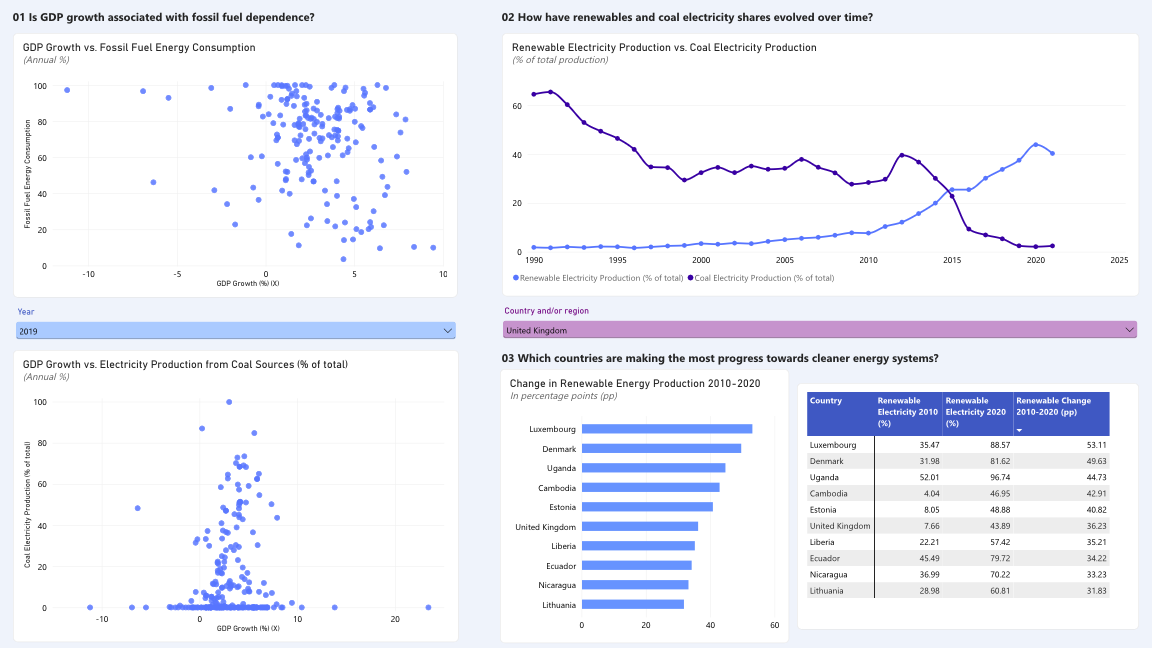

Layout of this report page (visuals, bound fields, positions):
{"tool":"powerbi","page":{"name":"Page 1","canvas":[1920,1080],"ordinal":0},"visuals":[{"type":"textbox","box":[22.3,14.9,753.7,40.2],"z":0},{"type":"slicer","fields":{"Values":["WB_ESG.TIME_PERIOD"]},"box":[20.9,513.9,743.3,70],"z":1000},{"type":"scatterChart","title":"GDP Growth vs. Fossil Fuel Energy Consumption","fields":{"Category":["WB_ESG.REF_AREA_LABEL"],"X":["WB_ESG.GDP Growth (%) (X)"],"Y":["WB_ESG.Fossil Fuel Energy Consumption"]},"box":[22.3,55.1,741.8,440.9],"z":2000},{"type":"scatterChart","title":"GDP Growth vs. Electricity Production from Coal Sources (% of total)","fields":{"Category":["WB_ESG.REF_AREA_LABEL"],"X":["WB_ESG.GDP Growth (%) (X)"],"Y":["WB_ESG.Coal Electricity Production (% of total)"]},"box":[20.9,583.9,743.3,487.1],"z":3000},{"type":"textbox","box":[1137,25,697.5,42.5],"z":4000},{"type":"lineChart","title":"Renewable Electricity Production vs. Coal Electricity Production ","fields":{"Category":["WB_ESG.TIME_PERIOD"],"Y":["WB_ESG.Renewable Electricity Production  (%  of  total)","WB_ESG.Coal Electricity Production (% of total)"]},"box":[837.1,55.1,1062,439.4],"z":5000},{"type":"textbox","box":[836.7,15,1061.7,35],"z":6000},{"type":"slicer","fields":{"Values":["WB_ESG.REF_AREA_LABEL"]},"box":[832.6,510.9,1068,59.6],"z":7000},{"type":"clusteredBarChart","title":"Change in Renewable Energy Production 2010-2020","fields":{"Category":["WB_ESG.REF_AREA_LABEL"],"Y":["WB_ESG.Renewable Change 2010-2020 (pp)"]},"box":[832.9,614.3,482.6,457.3],"z":8000},{"type":"pivotTable","fields":{"Rows":["WB_ESG.REF_AREA_LABEL"],"Values":["WB_ESG.Renewable Electricity 2010 (%)","WB_ESG.Renewable Electricity 2020 (%)","WB_ESG.Renewable Change 2010-2020 (pp)"]},"box":[1328.7,637.5,570.5,411.1],"z":9000},{"type":"textbox","box":[100,100,300,300],"z":10000},{"type":"textbox","box":[836.7,583.3,1063.3,31.7],"z":10001}]}

Visuals, with their boxes in screenshot pixels (x1, y1, x2, y2), scaled from the page's 1920x1080 canvas onto the 1152x648 screenshot:
textbox: {"left": 13, "top": 9, "right": 466, "bottom": 33}
slicer - WB_ESG.TIME_PERIOD: {"left": 13, "top": 308, "right": 459, "bottom": 350}
"GDP Growth vs. Fossil Fuel Energy Consumption" scatterChart: {"left": 13, "top": 33, "right": 458, "bottom": 298}
"GDP Growth vs. Electricity Production from Coal Sources (% of total)" scatterChart: {"left": 13, "top": 350, "right": 459, "bottom": 643}
textbox: {"left": 682, "top": 15, "right": 1101, "bottom": 40}
"Renewable Electricity Production vs. Coal Electricity Production " lineChart: {"left": 502, "top": 33, "right": 1139, "bottom": 297}
textbox: {"left": 502, "top": 9, "right": 1139, "bottom": 30}
slicer - WB_ESG.REF_AREA_LABEL: {"left": 500, "top": 307, "right": 1140, "bottom": 342}
"Change in Renewable Energy Production 2010-2020" clusteredBarChart: {"left": 500, "top": 369, "right": 789, "bottom": 643}
pivotTable - WB_ESG.REF_AREA_LABEL x WB_ESG.Renewable Electricity 2010 (%): {"left": 797, "top": 382, "right": 1140, "bottom": 629}
textbox: {"left": 60, "top": 60, "right": 240, "bottom": 240}
textbox: {"left": 502, "top": 350, "right": 1140, "bottom": 369}
